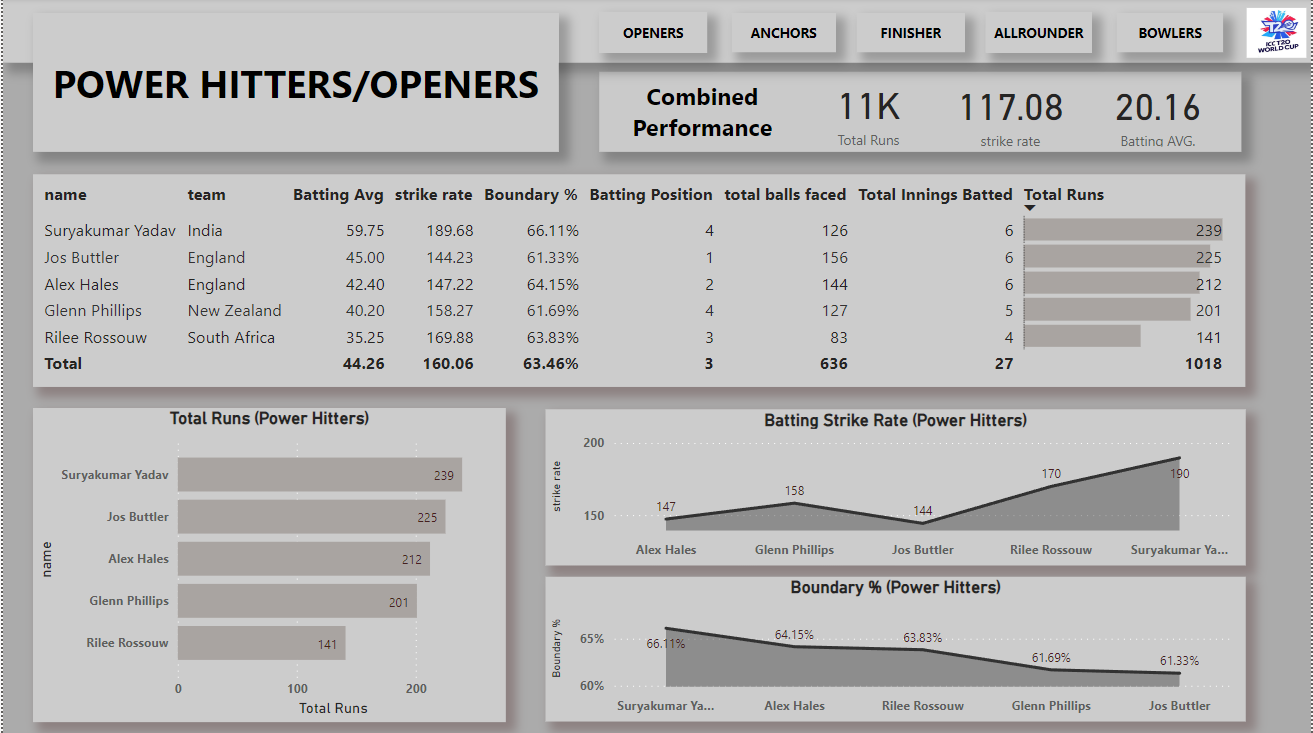

Layout of this report page (visuals, bound fields, positions):
{"tool":"powerbi","page":{"name":"Openers","canvas":[1280,720],"ordinal":0},"visuals":[{"type":"tableEx","title":"Openers/Power Hitters","fields":{"Values":["Information.name","Information.team","Key Measures.Batting Avg","Key Measures.Strike rate","Key Measures.Boundary %","Key Measures.Batting Position","Key Measures.total balls faced","Key Measures.Total Innings Batted","Key Measures.Total Runs"]},"box":[29.3,172.4,1185.7,207.8],"z":0},{"type":"shape","box":[583.1,72.1,628.3,78.2],"z":1000},{"type":"card","fields":{"Values":["Key Measures.Batting Avg"]},"box":[1065.9,73.3,127.1,77],"z":2000},{"type":"shape","box":[588,74.6,191.9,72.1],"z":3000},{"type":"card","fields":{"Values":["Key Measures.strike rate"]},"box":[925.4,73.3,119.8,77],"z":4000},{"type":"card","fields":{"Values":["Key Measures.Total Runs"]},"box":[779.9,72.1,133.2,78.2],"z":5000},{"type":"clusteredBarChart","title":"Total Runs (Power Hitters)","fields":{"Y":["Key Measures.Total Runs"],"Category":["Information.name"]},"box":[29.3,401,462.1,306.8],"z":6000},{"type":"areaChart","title":"Batting Strike Rate (Power Hitters)","fields":{"Category":["Information.name","Information.team"],"Y":["Key Measures.strike rate"]},"box":[530.5,402.2,684.6,152.8],"z":7000},{"type":"areaChart","title":"Boundary % (Power Hitters)","fields":{"Category":["Information.name"],"Y":["Key Measures.Boundary %"]},"box":[530.5,566,684.6,141.8],"z":8000},{"type":"shape","box":[0,0,1279.2,63.1],"z":9000},{"type":"image","box":[1211.4,4.9,68.5,58.7],"z":10000},{"type":"shape","box":[582.7,13.7,105.6,39.8],"z":11000},{"type":"shape","box":[712.9,15.1,101.5,38.4],"z":12000},{"type":"shape","box":[835,15.1,105.6,38.4],"z":13000},{"type":"shape","box":[961.1,13.7,104.2,39.8],"z":14000},{"type":"shape","box":[1088.6,15.1,104.2,38.4],"z":15000},{"type":"shape","box":[28.8,15.1,514.1,135.7],"z":16000}]}

Visuals, with their boxes in screenshot pixels (x1, y1, x2, y2), scaled from the page's 1280x720 canvas onto the 1313x733 screenshot:
"Openers/Power Hitters" tableEx: <bbox>30, 176, 1246, 387</bbox>
shape: <bbox>598, 73, 1243, 153</bbox>
card - Key Measures.Batting Avg: <bbox>1093, 75, 1224, 153</bbox>
shape: <bbox>603, 76, 800, 149</bbox>
card - Key Measures.strike rate: <bbox>949, 75, 1072, 153</bbox>
card - Key Measures.Total Runs: <bbox>800, 73, 937, 153</bbox>
"Total Runs (Power Hitters)" clusteredBarChart: <bbox>30, 408, 504, 721</bbox>
"Batting Strike Rate (Power Hitters)" areaChart: <bbox>544, 409, 1246, 565</bbox>
"Boundary % (Power Hitters)" areaChart: <bbox>544, 576, 1246, 721</bbox>
shape: <bbox>0, 0, 1312, 64</bbox>
image: <bbox>1243, 5, 1312, 65</bbox>
shape: <bbox>598, 14, 706, 54</bbox>
shape: <bbox>731, 15, 835, 54</bbox>
shape: <bbox>857, 15, 965, 54</bbox>
shape: <bbox>986, 14, 1093, 54</bbox>
shape: <bbox>1117, 15, 1224, 54</bbox>
shape: <bbox>30, 15, 557, 154</bbox>
